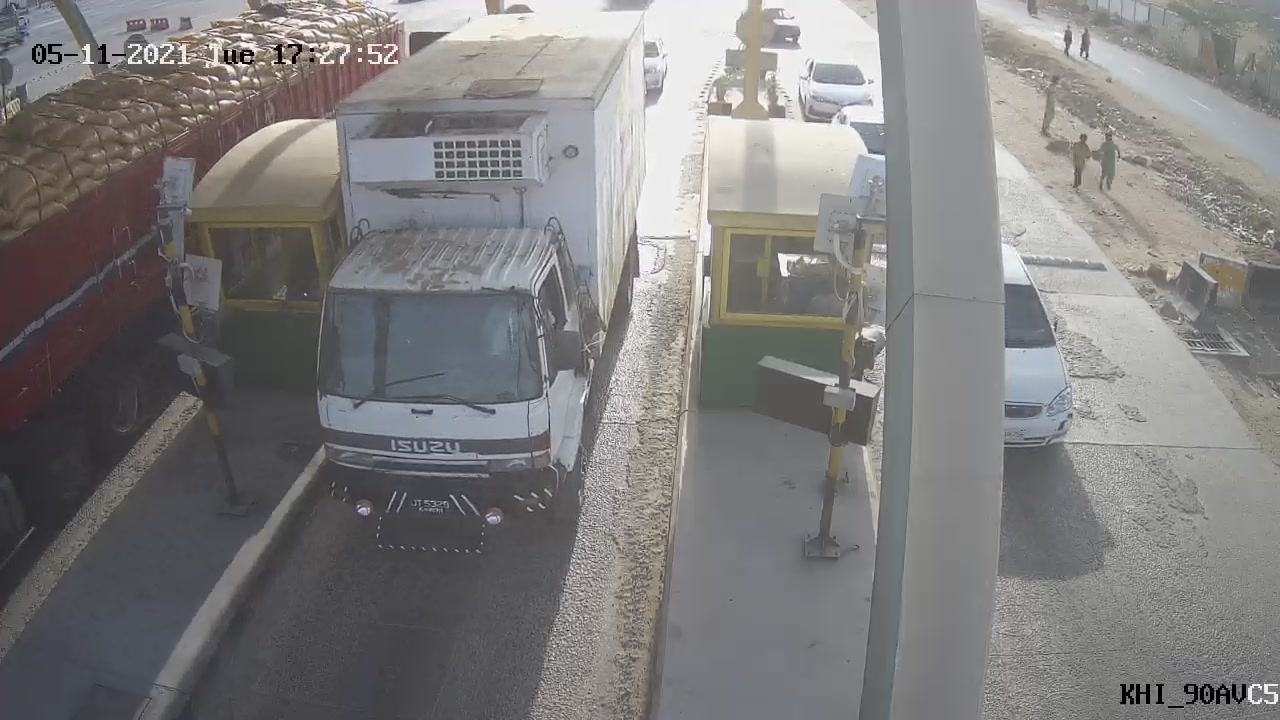F5: (259, 1, 660, 569)
